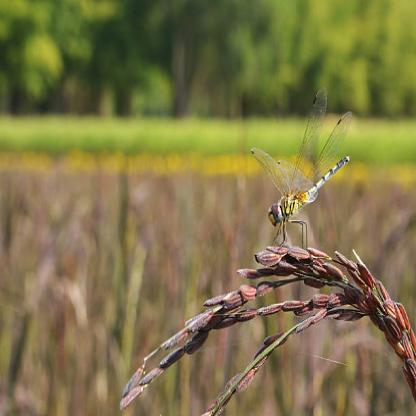sawfly: (245, 81, 364, 252)
